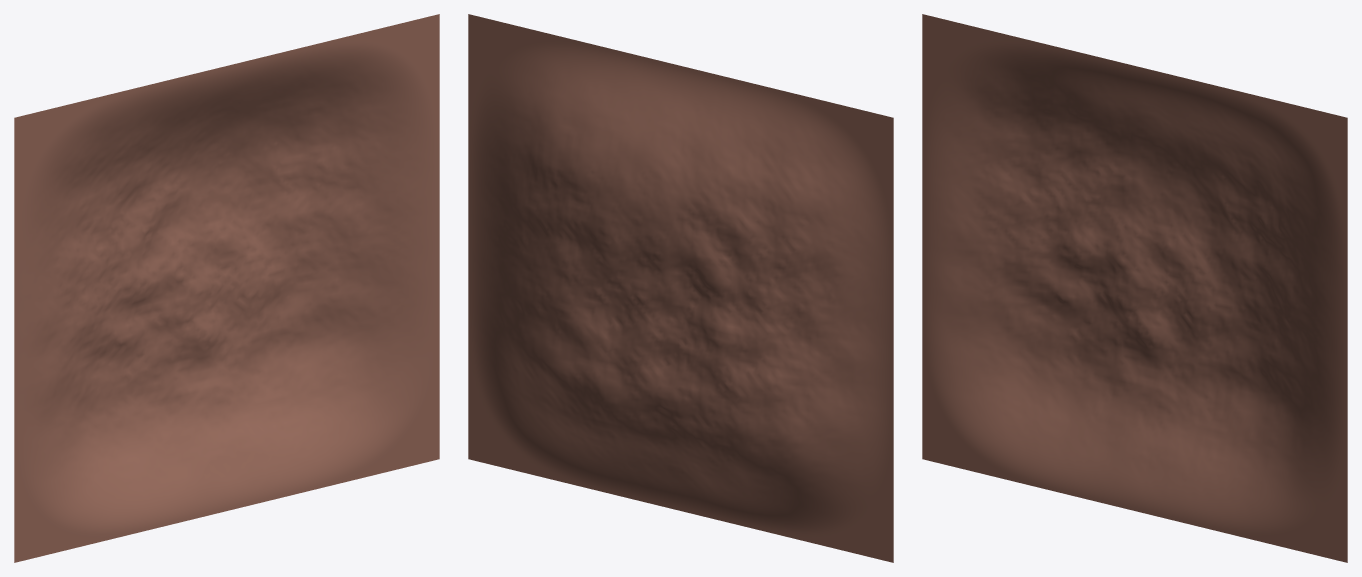
The model's file is ground.dae.
3 renders of one model, left to right at view 1: azimuth 30°, elevation 25°; view 2: azimuth 150°, elevation 25°; view 3: azimuth 330°, elevation 25°, orthographic.
Visible parts, largest first — view 1: Landscape; view 2: Landscape; view 3: Landscape.
Part boxes in pixels (<box>): Landscape: <box>14,14,439,562</box>; Landscape: <box>468,14,893,562</box>; Landscape: <box>922,14,1347,562</box>.
Bounding box in the file's own units: 40.64 × 3.79 × 40.64.
